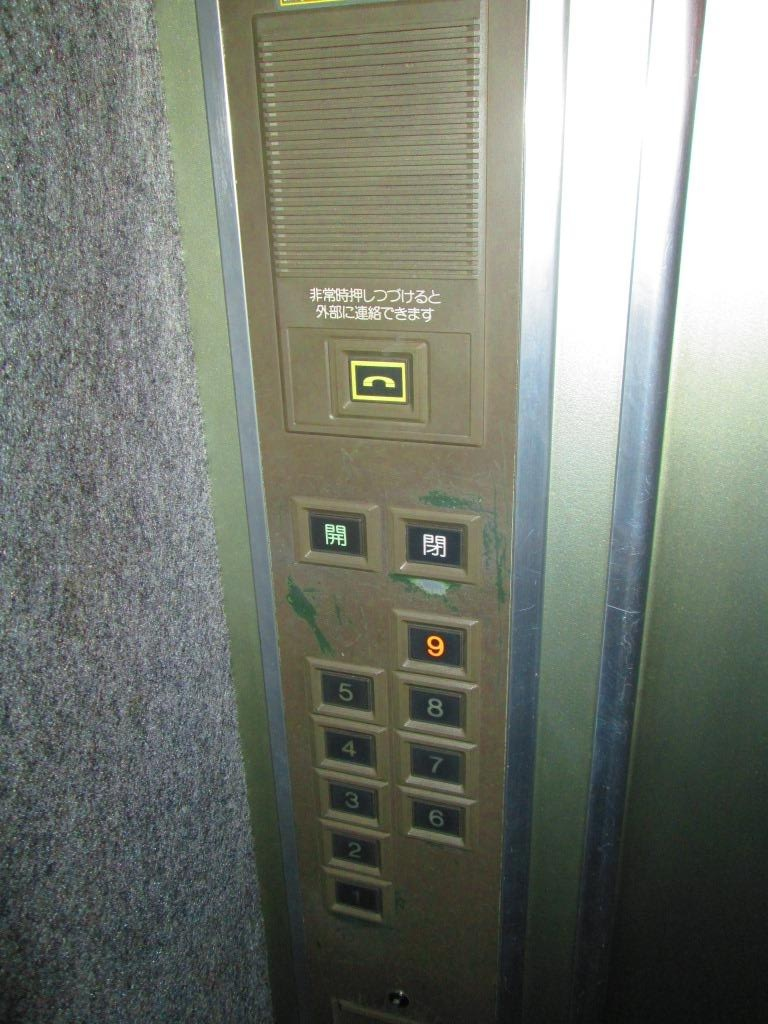1: (316, 859, 400, 934)
2: (312, 812, 400, 885)
3: (308, 762, 396, 836)
4: (304, 707, 394, 786)
5: (301, 652, 393, 730)
6: (385, 779, 479, 855)
7: (387, 723, 482, 803)
8: (388, 666, 484, 748)
9: (387, 604, 485, 689)
call: (323, 332, 434, 426)
text_close: (386, 499, 489, 589)
text_open: (286, 491, 388, 577)
